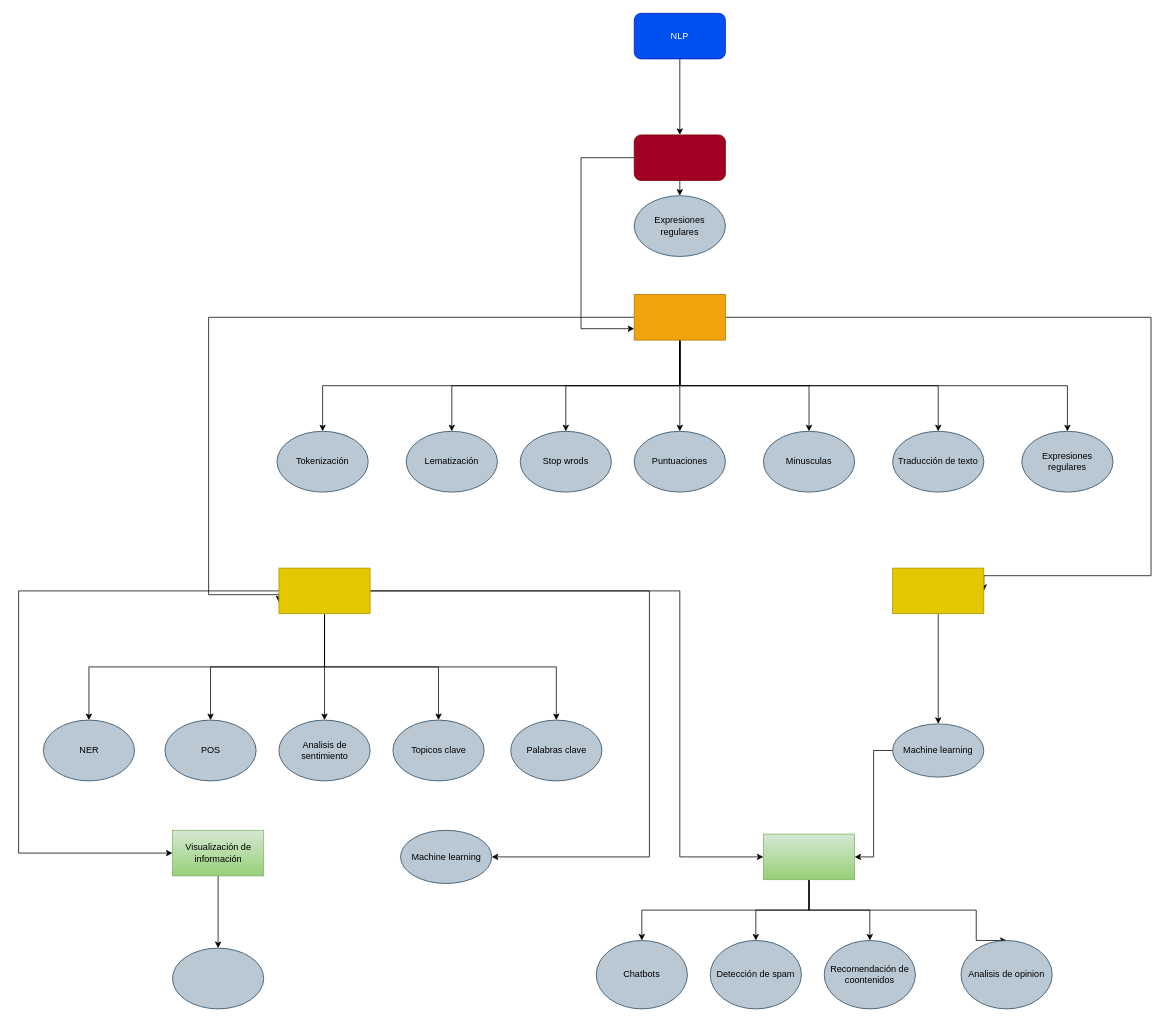
The diagram is 1170 pixels wide and 1022 high, and some of its shapes have lost their labels. The box of each missing label's shape, as (x1, y1, x2, y2) in pixels:
Aplicaciones hibridas: (763, 833, 855, 880)
Extracción de información con modelos preentrenados: (278, 567, 370, 614)
Limpieza: (633, 134, 725, 180)
Normalización: (633, 294, 725, 340)
Nube de palabras: (172, 947, 264, 1009)
Vectorización clasica: (892, 567, 984, 614)
